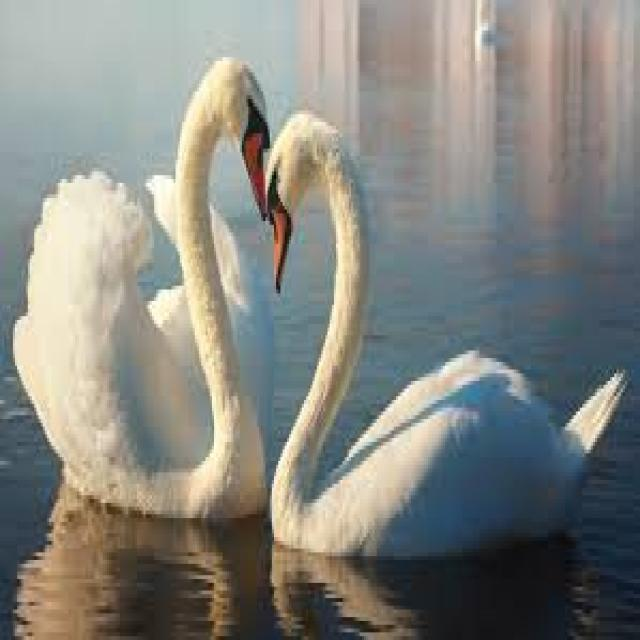swan: (268, 110, 623, 552), (15, 57, 278, 514)
